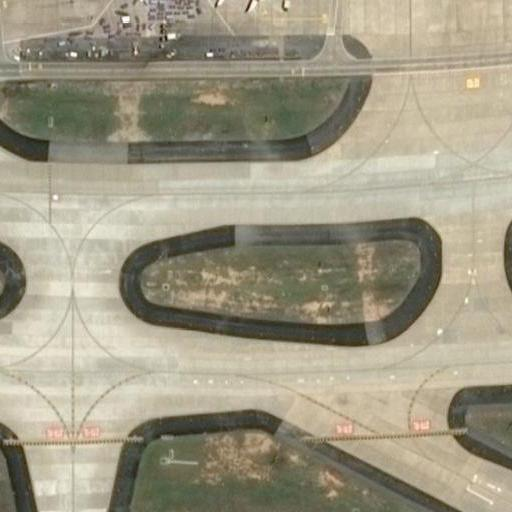Aircraft: (207, 0, 277, 15)
